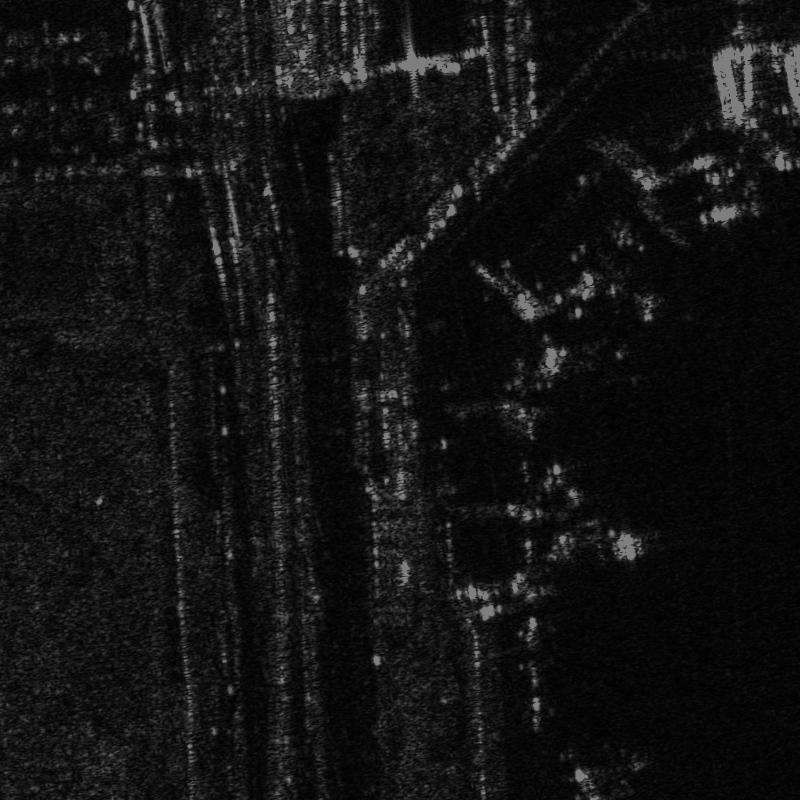A320/321: (524, 483, 652, 570), (587, 263, 669, 328)
